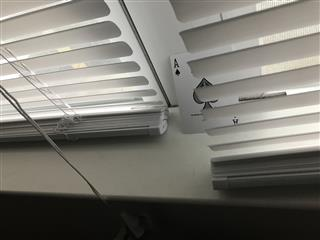AceOfSpades: (169, 44, 241, 133)
